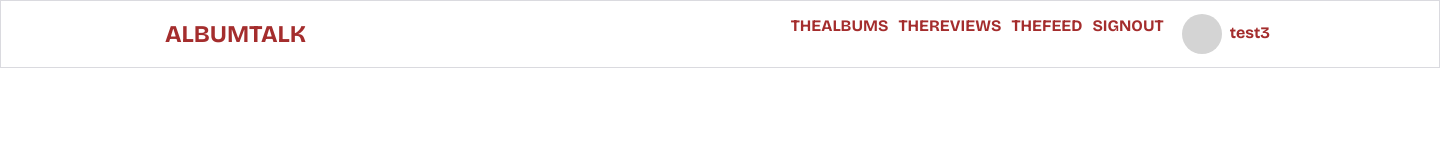
Test case: renders Sign in and Sign up buttons again on log out
This screenshot has width=1440, height=160.
Click the link "SIGNOUT".
click(1128, 26)  # box [1092,16,1164,35]
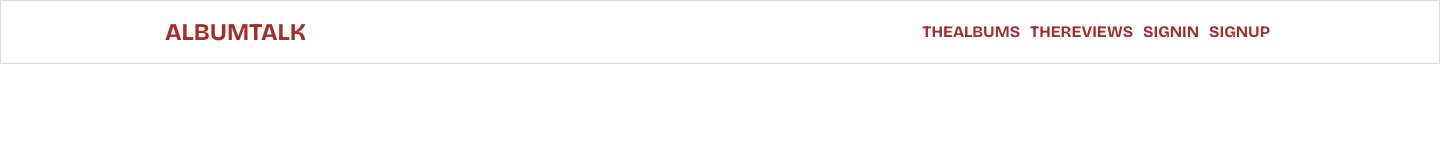
Expected: the link "SIGNIN" is shown, [1143,22,1199,41]
Expected: the link "SIGNUP" is shown, [1209,22,1270,41]
